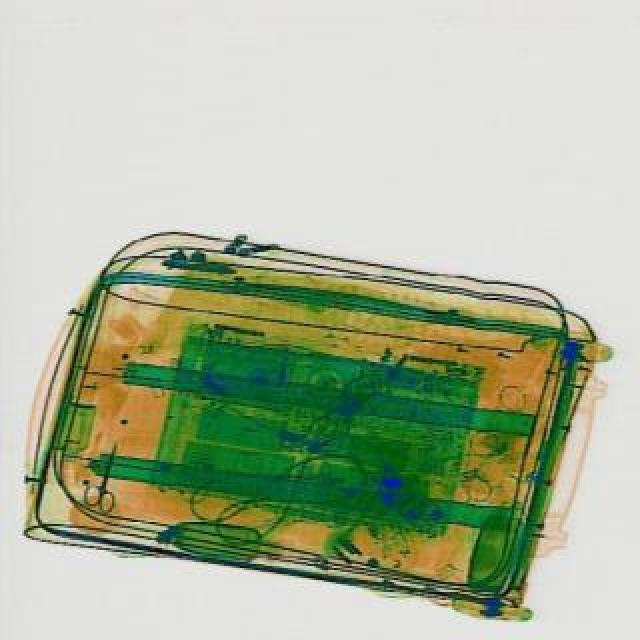pliers: (78, 436, 130, 514)
